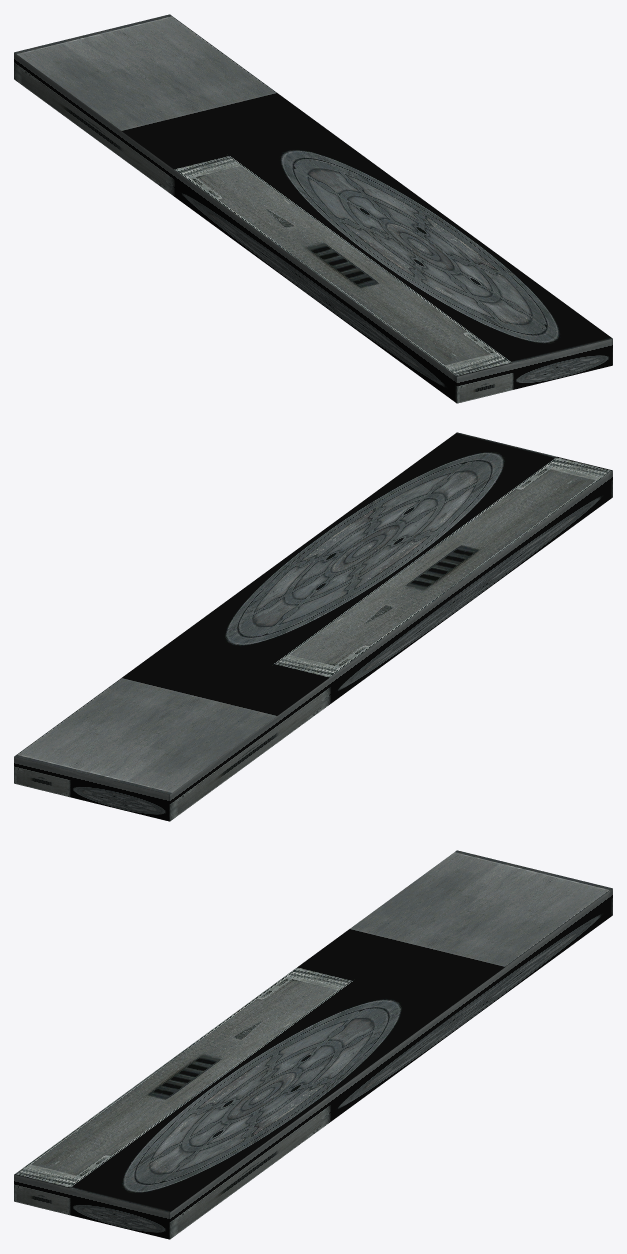
Rendered from Sidewalk_10meters.DAE.
3 renders of one model, top to bottom at view 1: azimuth 30°, elevation 25°; view 2: azimuth 150°, elevation 25°; view 3: azimuth 330°, elevation 25°, orthographic.
Parts seen in each view (by area): view 1: bounds; view 2: bounds; view 3: bounds.
Part boxes in pixels (left/top/right/bottom): bounds: left=14, top=14, right=612, bottom=403; bounds: left=14, top=432, right=612, bottom=821; bounds: left=14, top=850, right=612, bottom=1239.
Bounding box in the file's own units: 206 × 1015 × 34.09.
